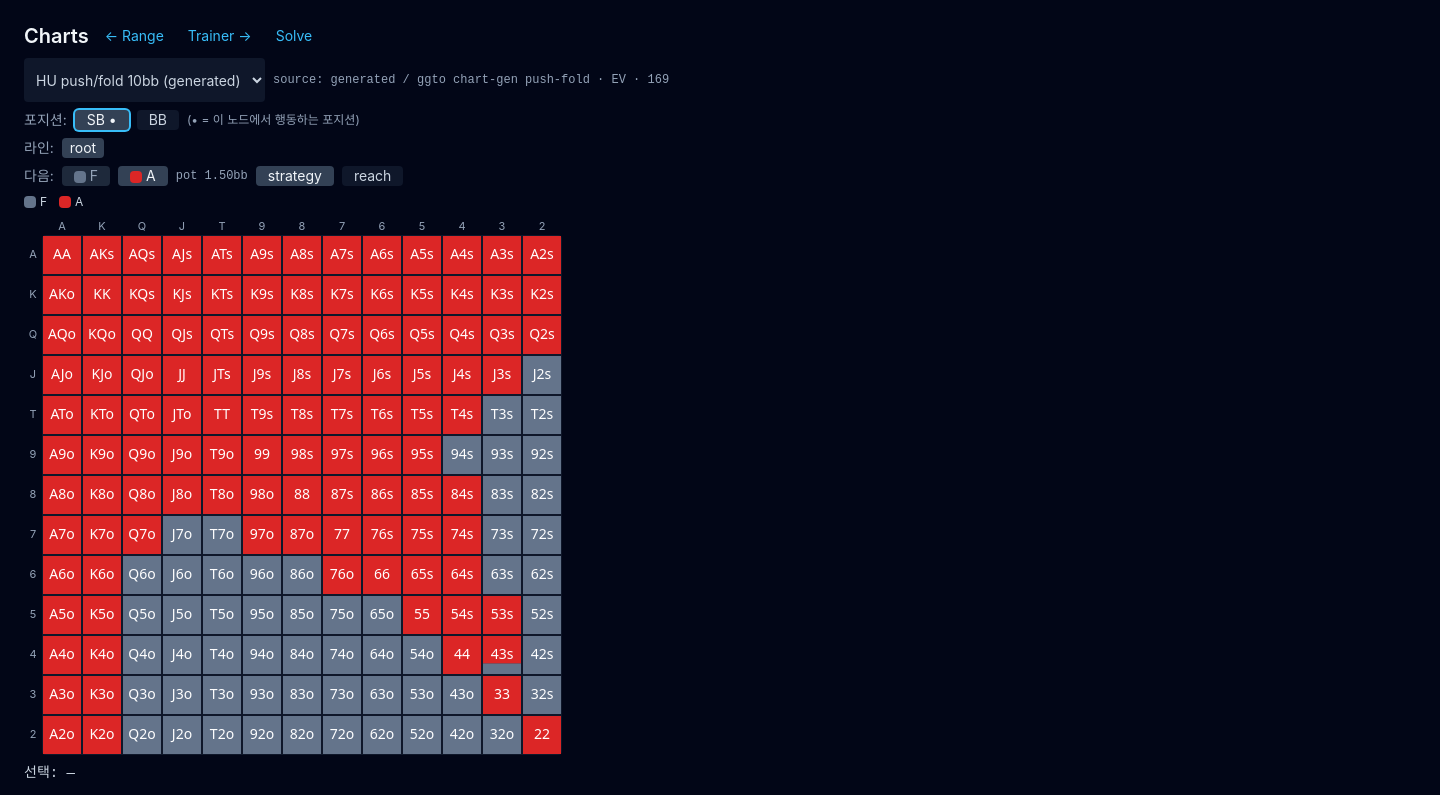
9 차트 뷰어 › 9 (P2 R1 MINOR 3) reach 모드 우측 패널은 포지션별 도달 질량·콤보 수뿐이다
This screenshot has width=1440, height=795.
Click the table at (302,494), box [42,234,562,754]
(page scrolled)
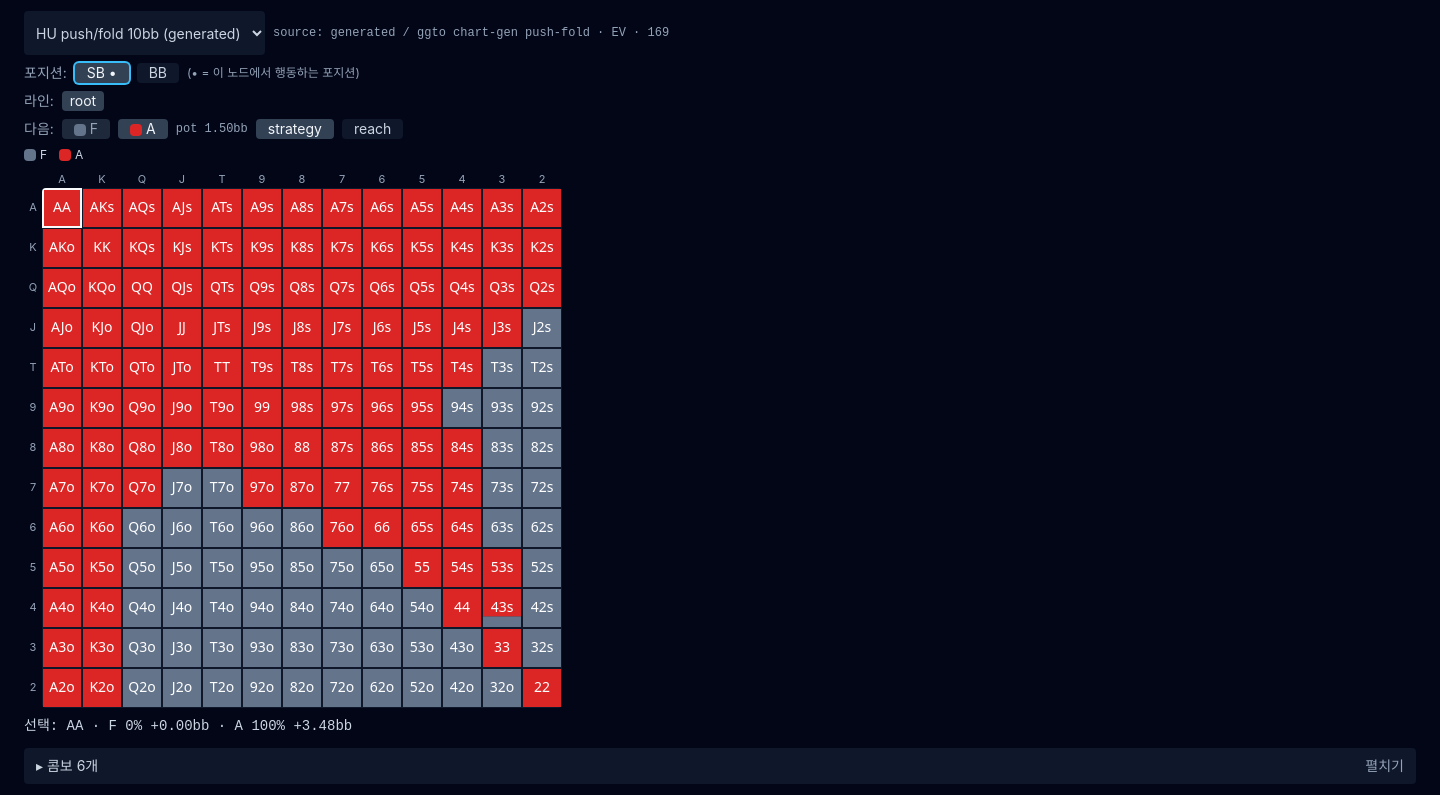
Click the button with test id "combo-toggle" at (71,765), box [24,748,1416,784]
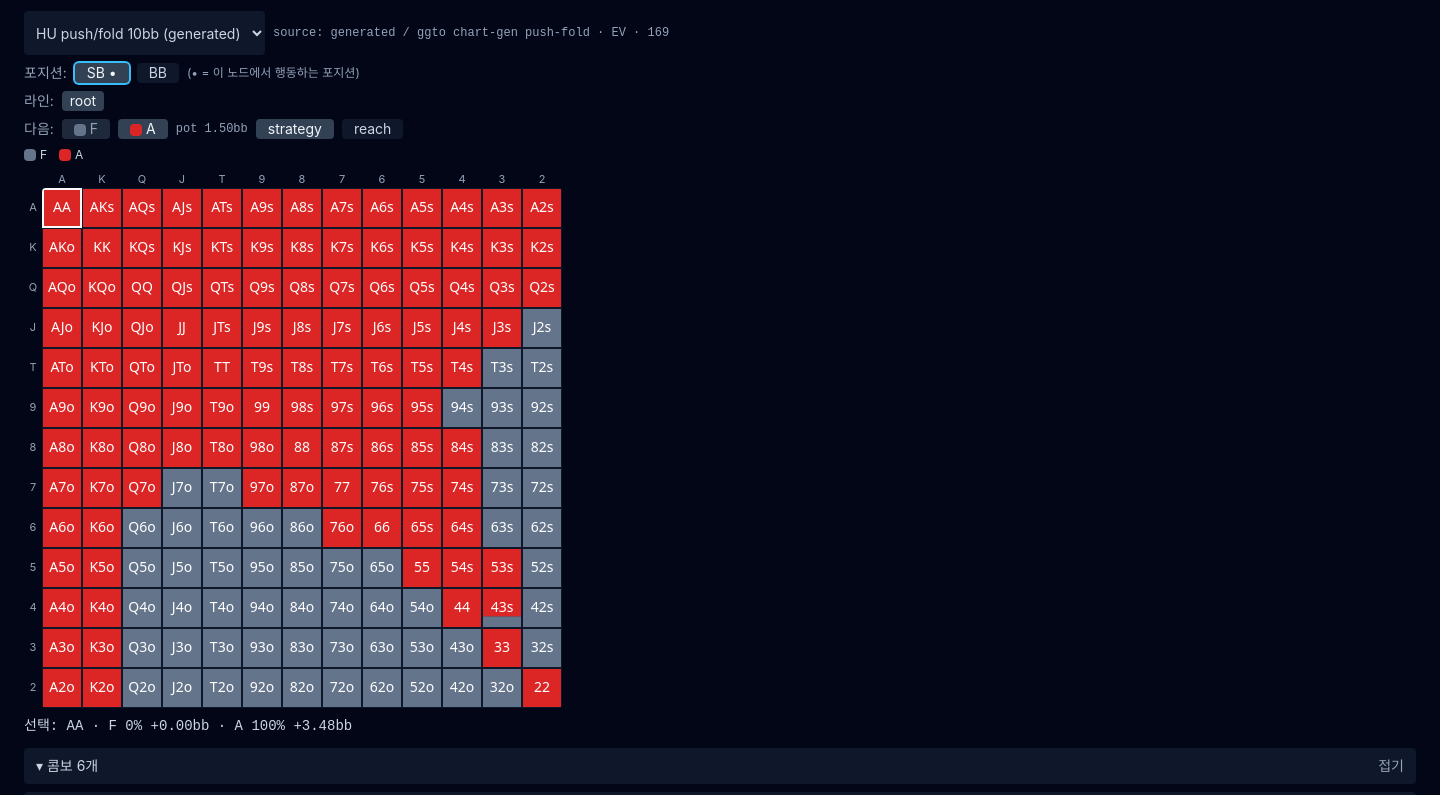
Click the button with test id "mode-reach" at (373,129), box [342,119,403,139]
(page scrolled)
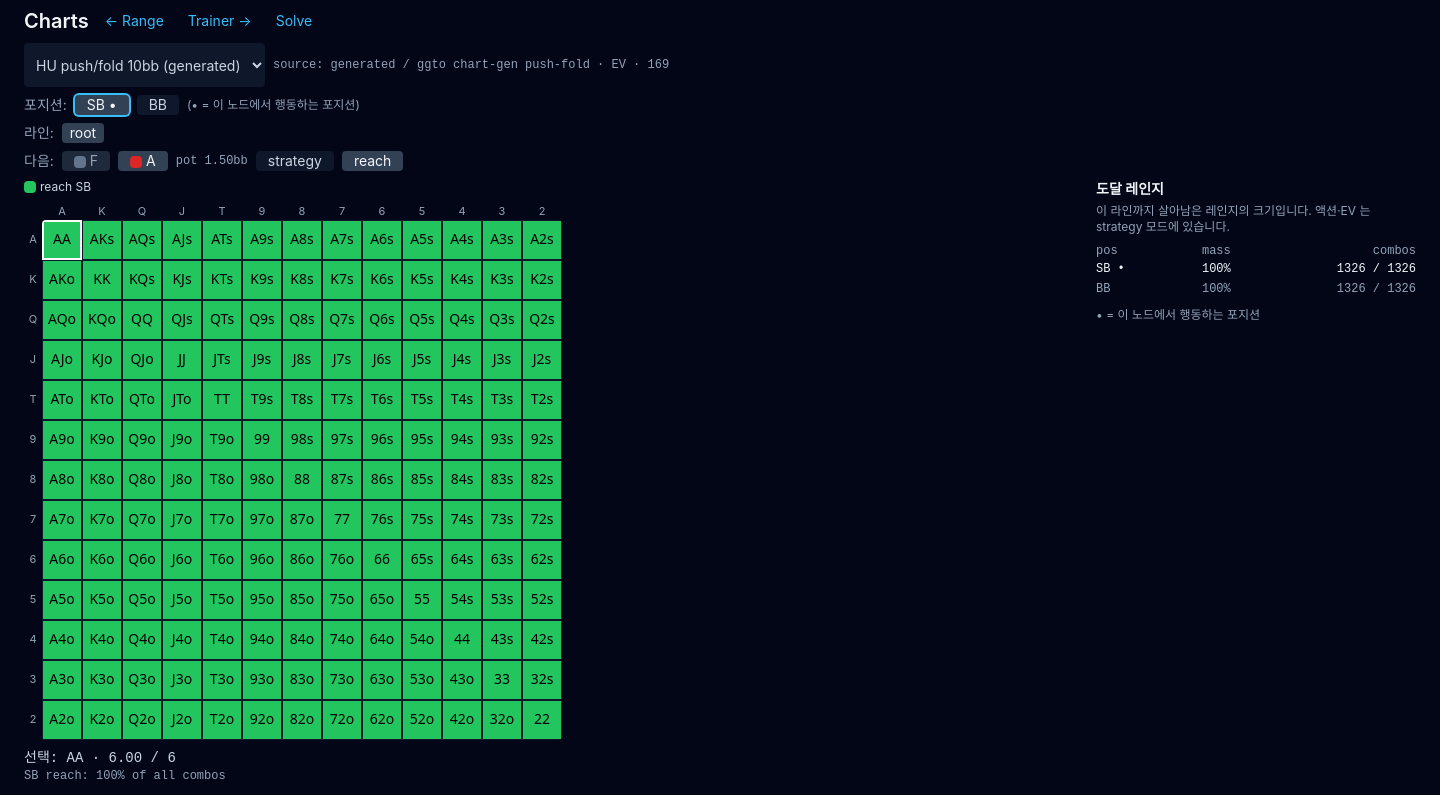
Now the element with test id "reach-panel" is shown, box [1096,179,1416,323]
Now the row with test id "reach-row-BB" is shown, box [1096,279,1416,299]
Now the row with test id "reach-row-SB" shows "1326 / 1326", box [1337,262,1416,276]
